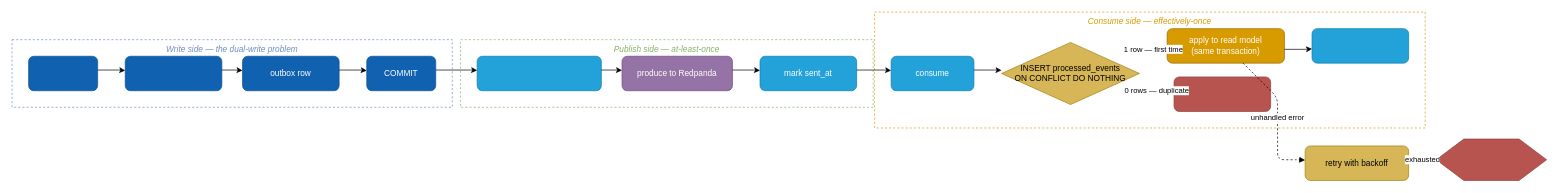
Some shapes in this 1559 by 193 pixel diagram are drawn without their labels. Each missing label, with the centre of its shape:
aggregate rows: [173,73]
BEGIN: [63,73]
commit offset: [1360,45]
DLQ topic + classification: [1491,159]
relay polls FOR UPDATE SKIP LOCKED: [538,73]
skip, count, commit offset: [1222,93]
